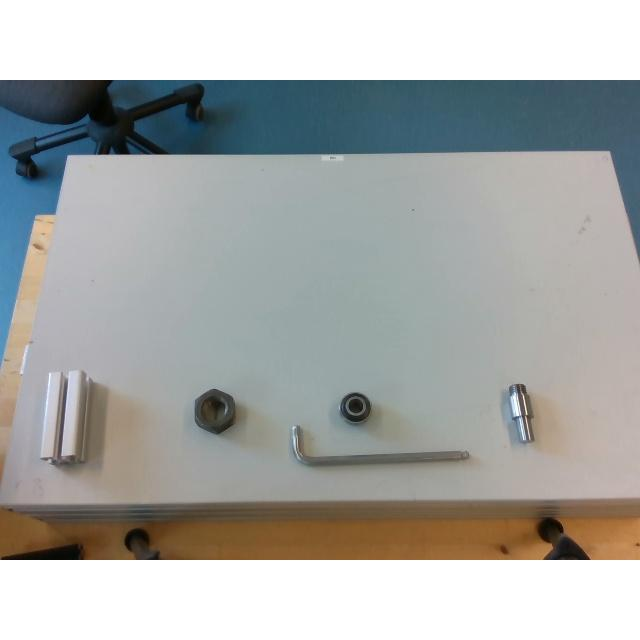AllenKey: (290, 424, 470, 464)
Axis2: (507, 382, 533, 442)
Bearing2: (341, 392, 372, 422)
M30: (194, 389, 234, 433)
S40_40_G: (40, 370, 89, 462)
